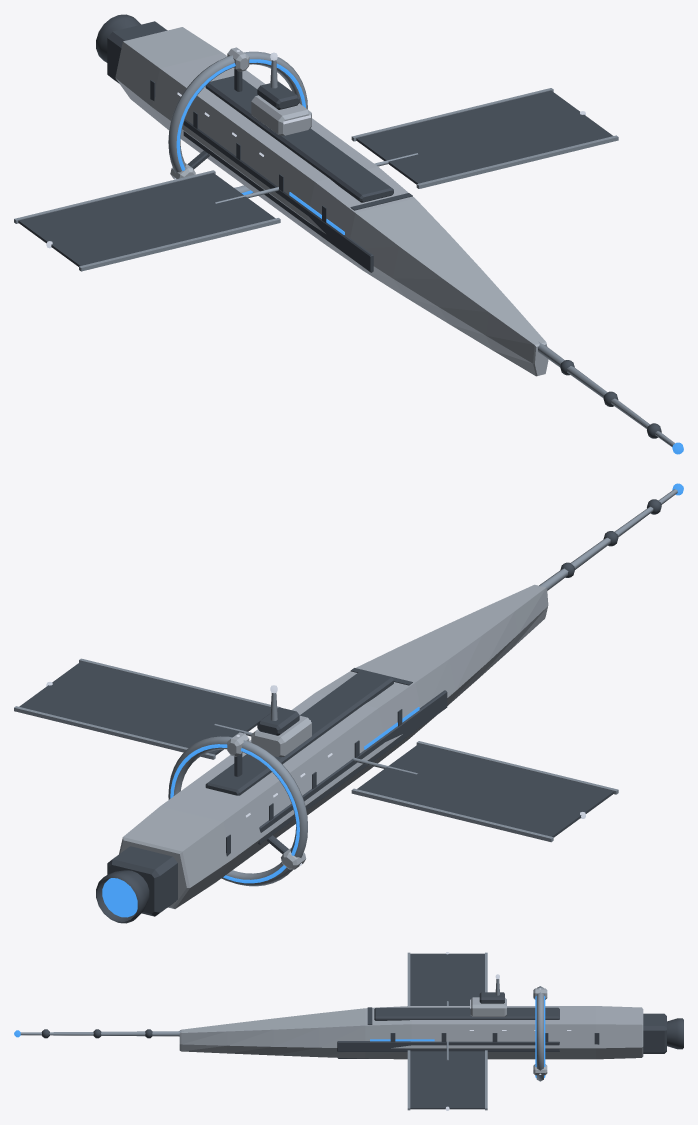
File: picket.glb
The picture shows the model from 3 angles, top to bottom: view 1: azimuth 30°, elevation 25°; view 2: azimuth 150°, elevation 25°; view 3: azimuth 270°, elevation 25°; orthographic projection. The views are drawn at different scales.
Parts seen in each view (by area): view 1: hull2, hull, trim, team_glow; view 2: hull2, hull, trim, team_glow; view 3: hull, hull2, trim, team_glow.
Part boxes in pixels (x1,y1,x2,y2): hull2: [18, 14, 661, 438]; hull: [115, 27, 548, 376]; trim: [14, 51, 674, 446]; team_glow: [176, 59, 683, 454]; hull2: [19, 499, 661, 923]; hull: [119, 584, 548, 908]; trim: [14, 489, 677, 886]; team_glow: [102, 483, 683, 917]; hull: [179, 988, 643, 1075]; hull2: [41, 953, 683, 1109]; trim: [20, 952, 543, 1110]; team_glow: [14, 996, 545, 1077].
Bounding box in the file's own units: 7.19 × 2.2 × 13.01.
